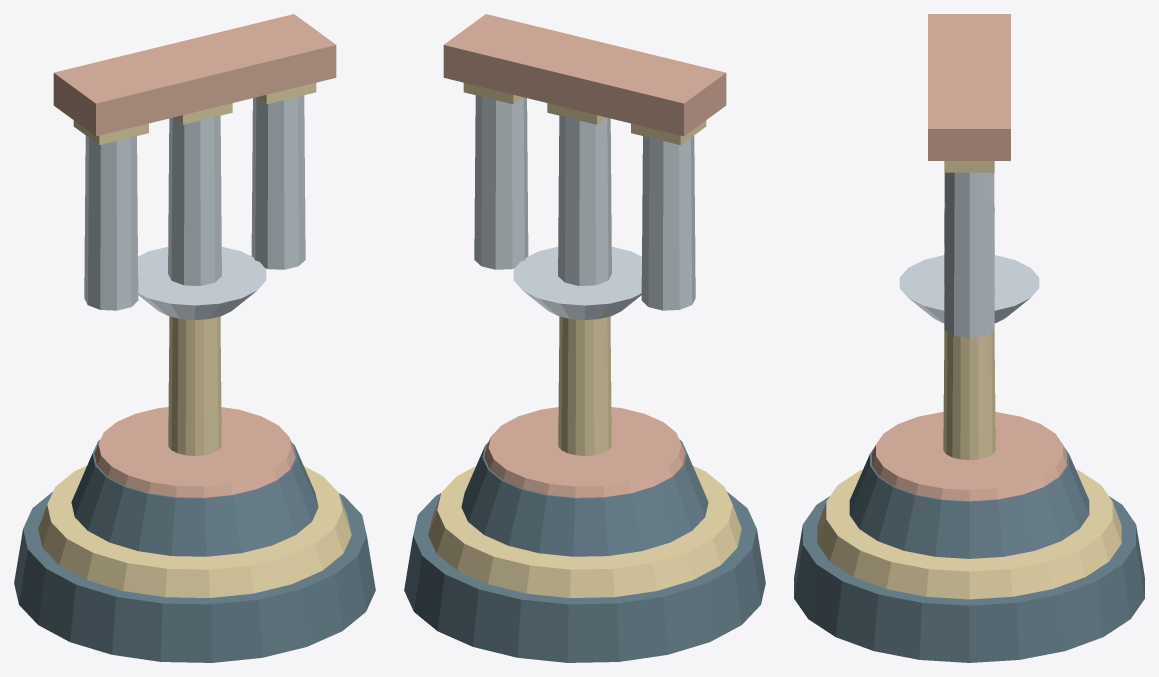
Rendered from deep-south.glb.
3 renders of one model, left to right at view 1: azimuth 30°, elevation 25°; view 2: azimuth 150°, elevation 25°; view 3: azimuth 270°, elevation 25°, orthographic. The views are drawn at different scales.
Bounding box in the file's own units: 1.2 × 1.93 × 1.19.
